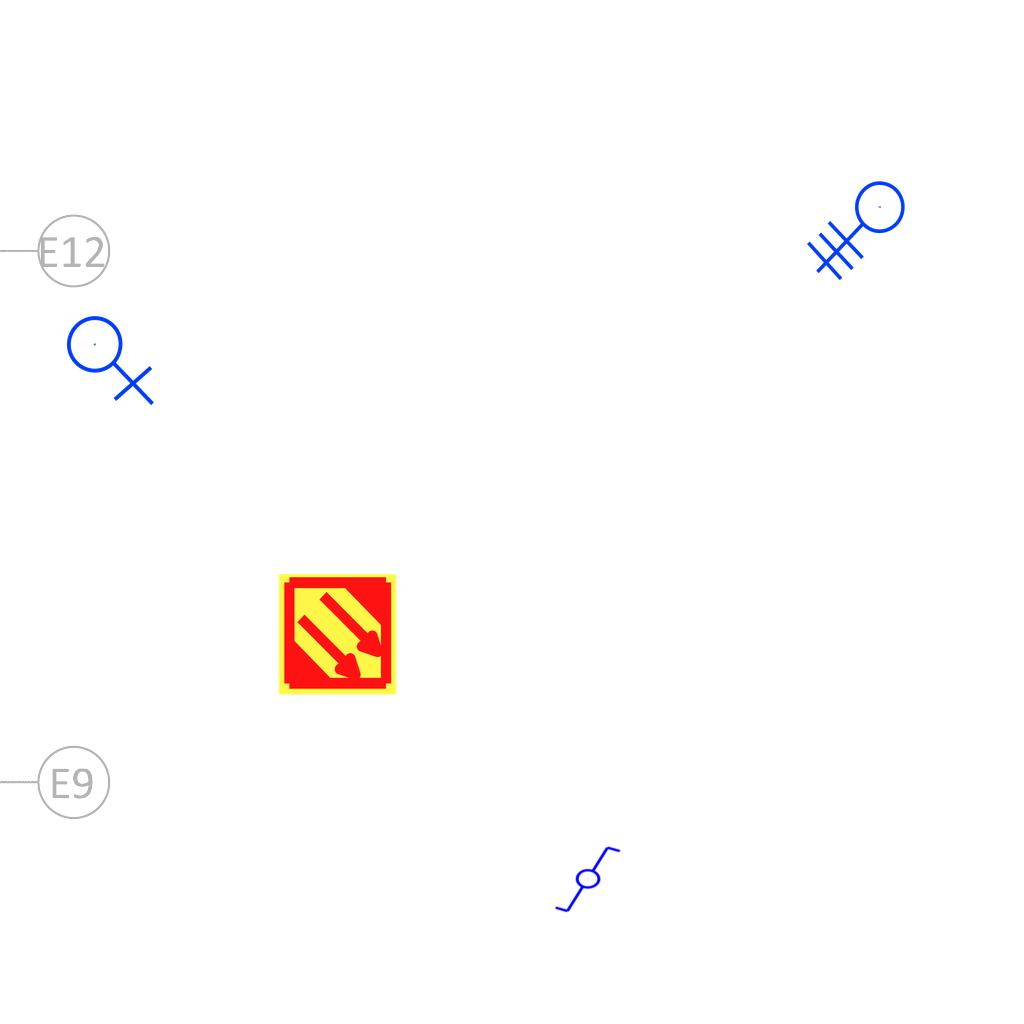ASR_Ansaugrauchmelder: (275, 572, 400, 697)
Elektroanschluss_allgemein_230V_Geraeteanschlussdose_230V: (65, 307, 159, 406)
Elektroanschluss_allgemein_400V_Geraeteanschlussdose_400V: (806, 180, 922, 293)
Wechselschalter: (553, 844, 631, 916)
